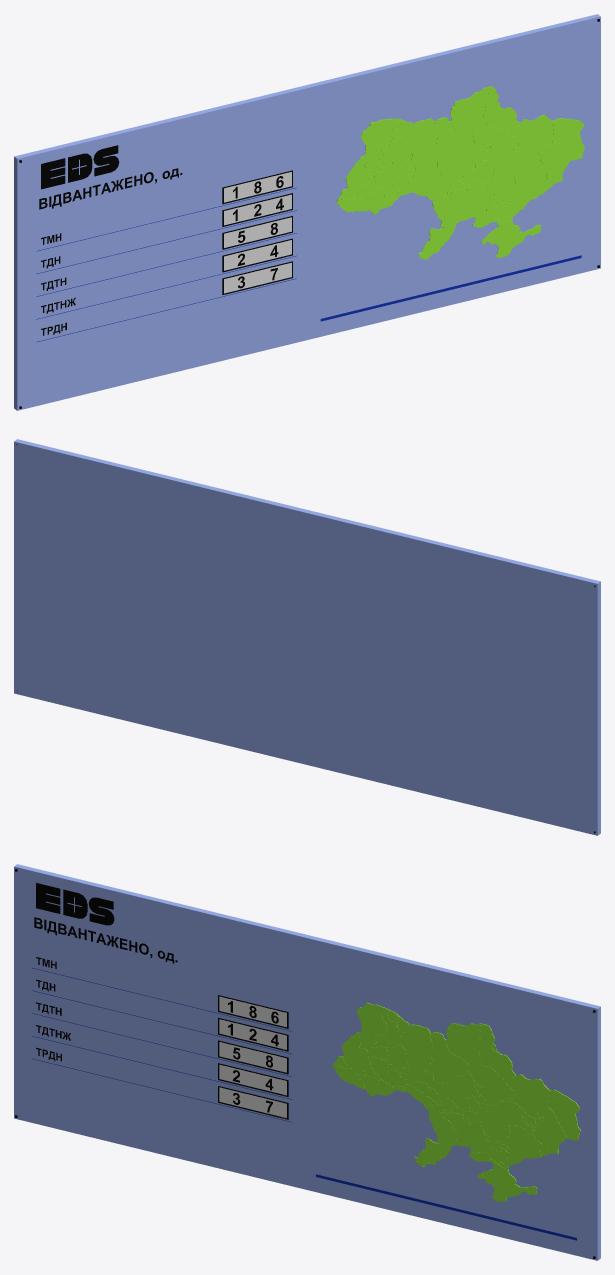
The model's file is edsUkraine-3.glb.
The picture shows the model from 3 angles, top to bottom: view 1: azimuth 30°, elevation 25°; view 2: azimuth 150°, elevation 25°; view 3: azimuth 330°, elevation 25°; orthographic projection.
Visible parts, largest first — view 1: ukraine-3/EDS_ukraine_backing_lavender, ukraine-3/EDS_ukraine_3d-map_lime, ukraine-3/EDS_ukraine_replaceable-screen_white, ukraine-3/EDS_ukraine_ink_black, ukraine-3/EDS_ukraine_ink_blue, ukraine-3/EDS_ukraine_replaceable-frame_black, ukraine-3/EDS_ukraine_replaceable-print_black; view 2: ukraine-3/EDS_ukraine_backing_lavender; view 3: ukraine-3/EDS_ukraine_backing_lavender, ukraine-3/EDS_ukraine_3d-map_lime, ukraine-3/EDS_ukraine_replaceable-screen_white, ukraine-3/EDS_ukraine_ink_black, ukraine-3/EDS_ukraine_ink_blue, ukraine-3/EDS_ukraine_replaceable-frame_black, ukraine-3/EDS_ukraine_replaceable-print_black.
Boxes of the visible parts, x1=… form: ukraine-3/EDS_ukraine_backing_lavender: x1=14, y1=14, x2=600, y2=410; ukraine-3/EDS_ukraine_3d-map_lime: x1=336, y1=86, x2=584, y2=259; ukraine-3/EDS_ukraine_replaceable-screen_white: x1=224, y1=172, x2=291, y2=293; ukraine-3/EDS_ukraine_ink_black: x1=39, y1=145, x2=182, y2=335; ukraine-3/EDS_ukraine_ink_blue: x1=36, y1=187, x2=581, y2=342; ukraine-3/EDS_ukraine_replaceable-frame_black: x1=222, y1=170, x2=292, y2=294; ukraine-3/EDS_ukraine_replaceable-print_black: x1=233, y1=176, x2=283, y2=288; ukraine-3/EDS_ukraine_backing_lavender: x1=14, y1=439, x2=600, y2=835; ukraine-3/EDS_ukraine_backing_lavender: x1=14, y1=864, x2=600, y2=1260; ukraine-3/EDS_ukraine_3d-map_lime: x1=333, y1=1002, x2=580, y2=1201; ukraine-3/EDS_ukraine_replaceable-screen_white: x1=219, y1=996, x2=286, y2=1117; ukraine-3/EDS_ukraine_ink_black: x1=34, y1=883, x2=177, y2=1061; ukraine-3/EDS_ukraine_ink_blue: x1=31, y1=968, x2=576, y2=1240; ukraine-3/EDS_ukraine_replaceable-frame_black: x1=218, y1=995, x2=288, y2=1119; ukraine-3/EDS_ukraine_replaceable-print_black: x1=228, y1=1001, x2=278, y2=1112.
Size of the model in its own units: 3.2 by 1.32 by 0.04.
